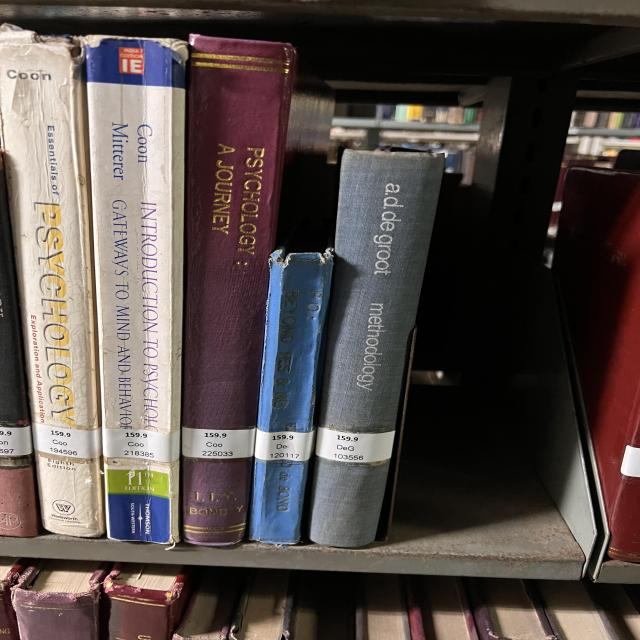Book: (182, 35, 297, 545), (82, 35, 188, 545), (310, 150, 443, 548), (2, 25, 105, 536), (250, 249, 333, 544), (3, 90, 40, 221)
Label: (315, 428, 395, 462), (102, 428, 180, 462), (32, 422, 102, 459), (182, 428, 255, 459), (255, 429, 313, 461)
